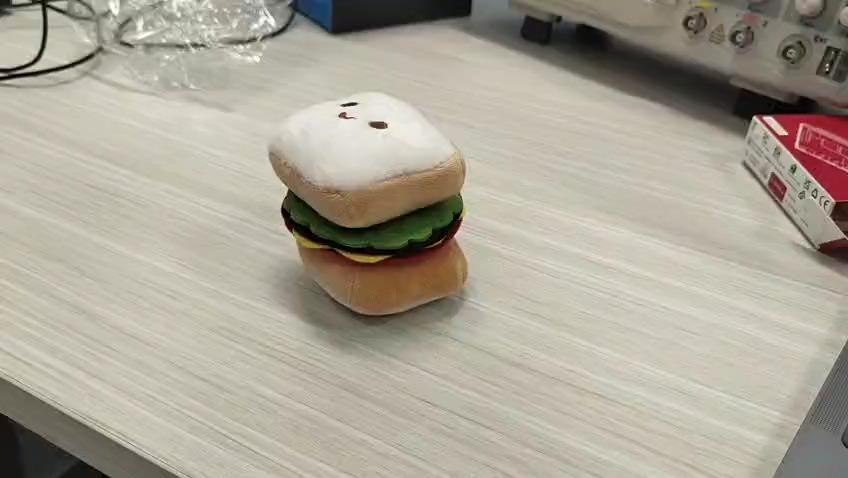objects: (267, 90, 469, 317)
